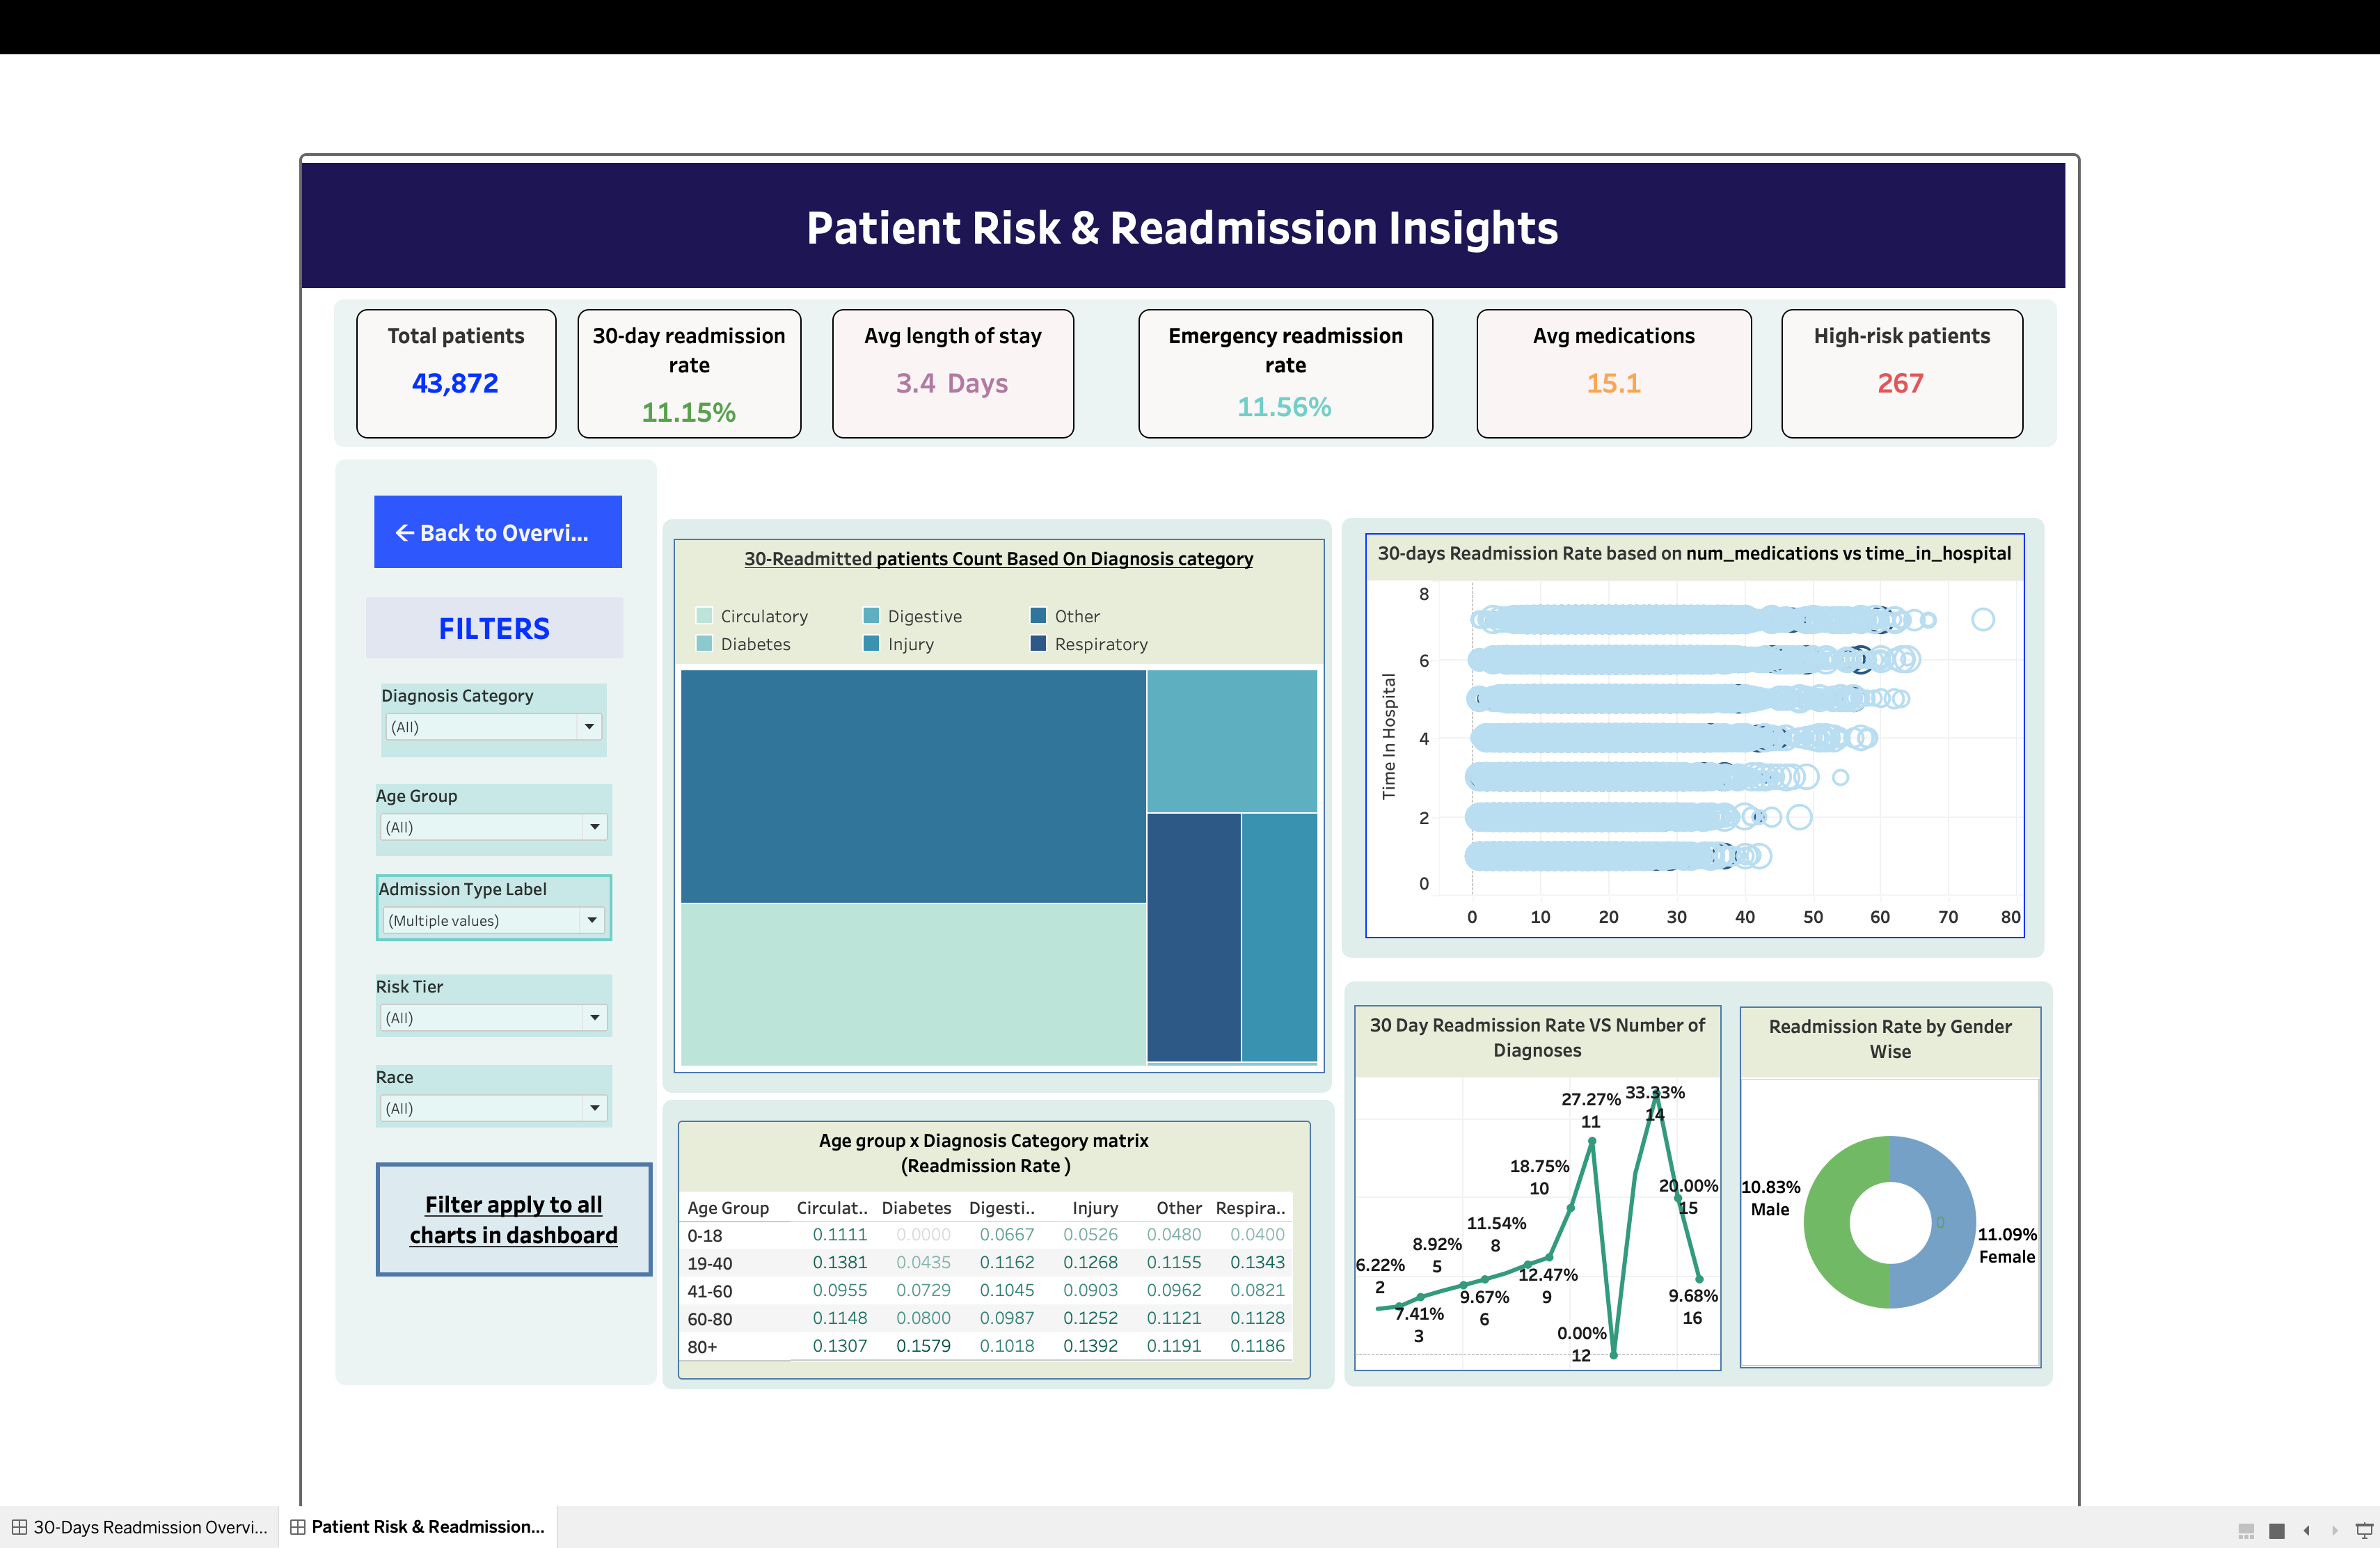

The dashboard page shown, as its layout file describes it:
{"tool":"tableau","page":{"name":"Patient Risk & Readmission Insights","canvas":[1000,1000],"units":"permille","ordinal":1},"visuals":[{"type":"text","box":[0.7,7.8,990.7,100]},{"type":"blank","box":[19.5,116.7,967.2,117.8]},{"type":"worksheet","title":"Total patients","mark":"Automatic","box":[32,124.4,112.5,103.3]},{"type":"worksheet","title":"30-day readmission rate","mark":"Automatic","box":[156.2,124.4,125.8,103.3]},{"type":"worksheet","title":"Avg length of stay","mark":"Automatic","box":[299.2,124.4,135.9,103.3]},{"type":"worksheet","title":"Emergency readmission rate","mark":"Automatic","box":[471.1,124.4,165.6,103.3]},{"type":"worksheet","title":"Avg medications","mark":"Automatic","box":[660.9,124.4,154.7,103.3]},{"type":"worksheet","title":"High-risk patients","mark":"Automatic","box":[832,124.4,135.9,103.3]},{"type":"blank","box":[20.7,244.4,180.7,738.9]},{"type":"dashboard-object","box":[42.2,273.3,139.1,57.8]},{"type":"blank","box":[585.2,291.1,394.5,351.1]},{"type":"blank","box":[203.9,292.2,375.8,457.8]},{"type":"worksheet","title":"num_medications vs time_in_hospital","mark":"Automatic","rows":["time_in_hospital"],"cols":["num_medications"],"box":[598.4,303.3,370.3,323.3]},{"type":"worksheet","title":"Based On Diagnosis category 30-Readmitted patients Count ","mark":"Automatic","box":[210.2,307.8,365.6,426.7]},{"type":"legend","title":"Based On Diagnosis category 30-Readmitted patients Count ","param":"[federated.125o08b01rkmnm17g3ajr1cqojmo].[none:diagnosis_category:nk]","box":[219.5,337.8,414.1,65.6]},{"type":"text","box":[37.5,354.4,144.5,48.9]},{"type":"filter","title":"30-day readmission rate","param":"[federated.125o08b01rkmnm17g3ajr1cqojmo].[none:diagnosis_category:nk]","box":[43,418.9,132.8,67.8]},{"type":"filter","title":"30-day readmission rate","param":"[federated.125o08b01rkmnm17g3ajr1cqojmo].[none:age_group:nk]","box":[43,503.3,132.8,57.8]},{"type":"filter","title":"30-day readmission rate","param":"[federated.125o08b01rkmnm17g3ajr1cqojmo].[none:admission_type_label:nk]","box":[43,575.6,132.8,53.3]},{"type":"filter","title":"30-day readmission rate","param":"[federated.125o08b01rkmnm17g3ajr1cqojmo].[none:risk_tier:nk]","box":[43,655.6,132.8,50]},{"type":"blank","box":[586.7,661.1,397.7,323.3]},{"type":"worksheet","title":"REadmition rate and number_diagnoses","mark":"Automatic","rows":["readmitted_30d"],"cols":["number_diagnoses"],"box":[592.2,680,206.2,292.2]},{"type":"worksheet","title":"Gender wise Readmissions","mark":"Pie","cols":["Calculation_0053470942367750","Calculation_0053470942453770"],"box":[808.6,681.1,169.5,288.9]},{"type":"filter","title":"30-day readmission rate","param":"[federated.125o08b01rkmnm17g3ajr1cqojmo].[none:race:nk]","box":[43,727.8,132.8,50]},{"type":"blank","box":[203.9,755.6,377.3,231.1]},{"type":"worksheet","title":"Age group x Diagnosis Category matrix ","mark":"Automatic","rows":["age_group"],"cols":["diagnosis_category"],"box":[212.5,772.2,355.5,206.7]},{"type":"text","box":[43,805.6,155.5,91.1]}]}

Visuals, with their boxes on the dashboard's canvas, which has no fixed pixel size, in thousandths of its width and height (x1, y1, x2, y2). These are canvas units, not pixel positions in the 2380x1548 screenshot, which may show the page scaled, cropped or inside an application window:
text: [1,8,991,108]
blank: [20,117,987,234]
"Total patients" worksheet: [32,124,144,228]
"30-day readmission rate" worksheet: [156,124,282,228]
"Avg length of stay" worksheet: [299,124,435,228]
"Emergency readmission rate" worksheet: [471,124,637,228]
"Avg medications" worksheet: [661,124,816,228]
"High-risk patients" worksheet: [832,124,968,228]
blank: [21,244,201,983]
dashboard-object: [42,273,181,331]
blank: [585,291,980,642]
blank: [204,292,580,750]
"num_medications vs time_in_hospital" worksheet: [598,303,969,627]
"Based On Diagnosis category 30-Readmitted patients Count " worksheet: [210,308,576,734]
"Based On Diagnosis category 30-Readmitted patients Count " legend: [220,338,634,403]
text: [38,354,182,403]
"30-day readmission rate" filter: [43,419,176,487]
"30-day readmission rate" filter: [43,503,176,561]
"30-day readmission rate" filter: [43,576,176,629]
"30-day readmission rate" filter: [43,656,176,706]
blank: [587,661,984,984]
"REadmition rate and number_diagnoses" worksheet: [592,680,798,972]
"Gender wise Readmissions" worksheet (Pie marks): [809,681,978,970]
"30-day readmission rate" filter: [43,728,176,778]
blank: [204,756,581,987]
"Age group x Diagnosis Category matrix " worksheet: [212,772,568,979]
text: [43,806,198,897]
